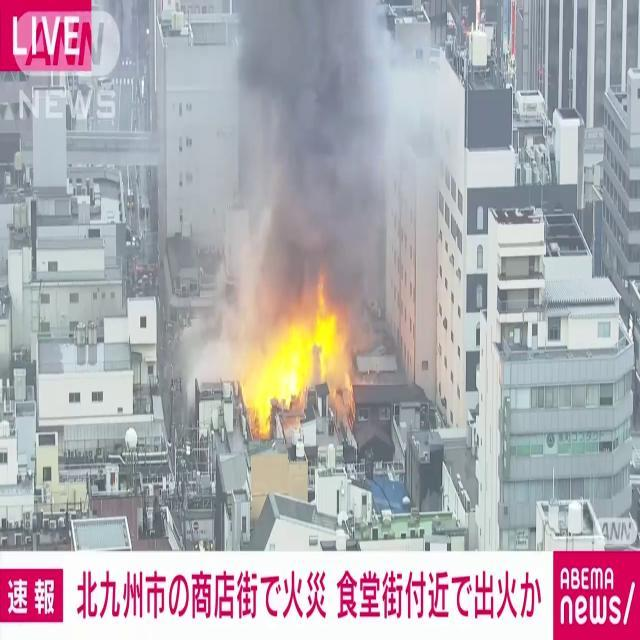Fire: (236, 284, 360, 432)
Smoke: (202, 1, 436, 316)
